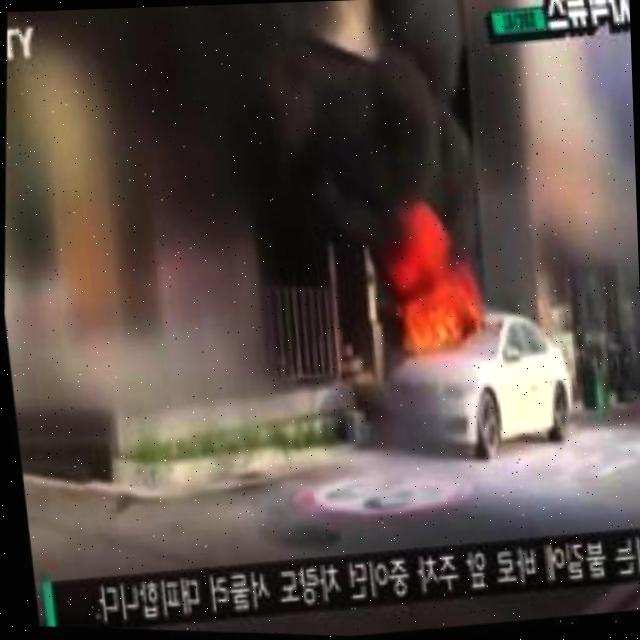fire: (381, 190, 478, 363)
